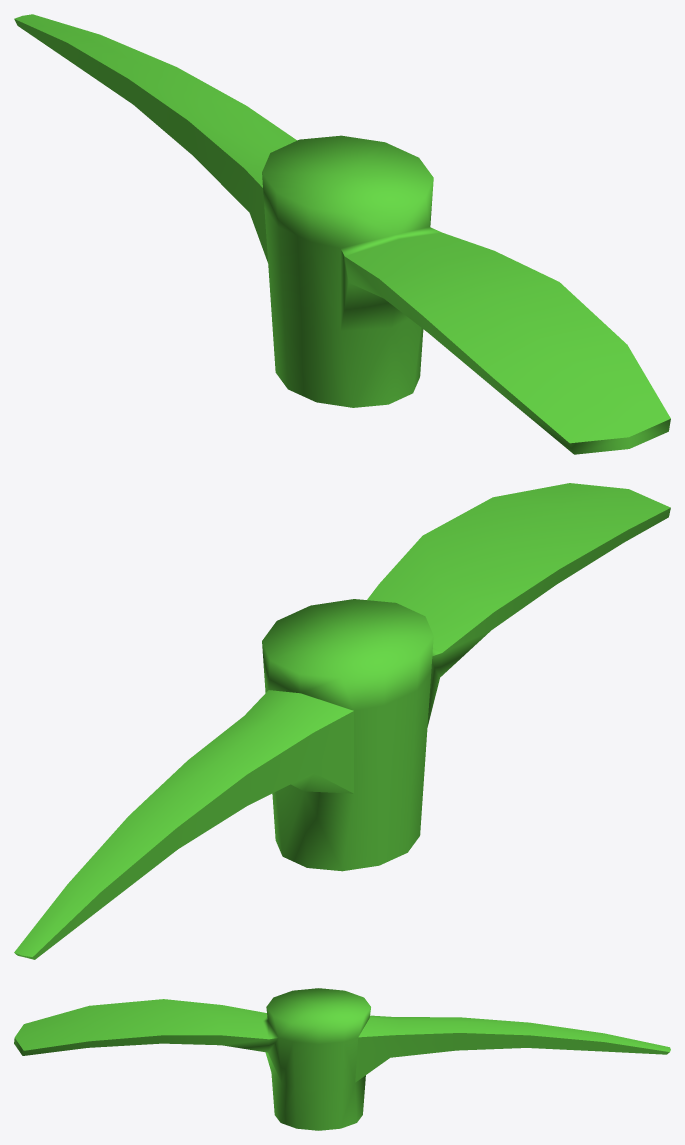
The model's file is PixeAxe_Head.fbx.
3 renders of one model, top to bottom at view 1: azimuth 30°, elevation 25°; view 2: azimuth 150°, elevation 25°; view 3: azimuth 270°, elevation 25°, orthographic. The views are drawn at different scales.
Visible parts, largest first — view 1: PixeAxe_Head; view 2: PixeAxe_Head; view 3: PixeAxe_Head.
Part boxes in pixels (x1,y1,x2,y2): PixeAxe_Head: (14, 14, 670, 454); PixeAxe_Head: (14, 483, 670, 959); PixeAxe_Head: (14, 988, 670, 1130).
Size of the model in its own units: 9.18 by 12.3 by 67.77.
